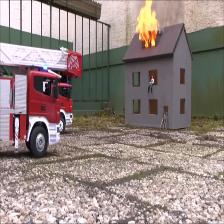smoke: (135, 1, 162, 45)
